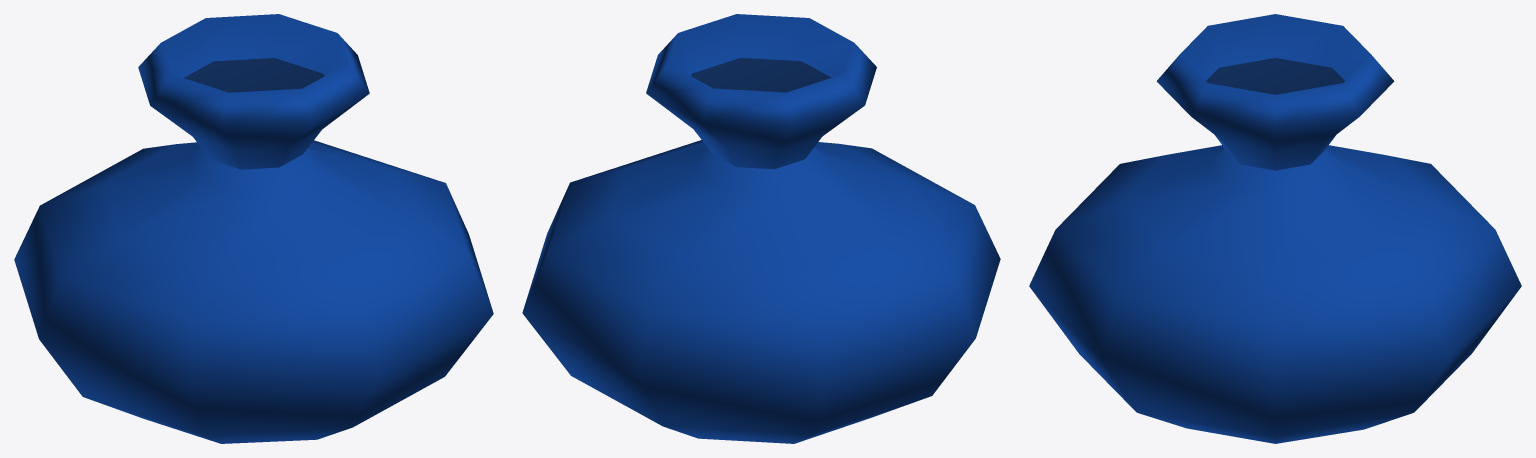
The model's file is prop_029.fbx.
3 renders of one model, left to right at view 1: azimuth 30°, elevation 25°; view 2: azimuth 150°, elevation 25°; view 3: azimuth 270°, elevation 25°, orthographic.
Parts seen in each view (by area): view 1: prop_029; view 2: prop_029; view 3: prop_029.
Part boxes in pixels (box(x1,y1,x2,y2)): prop_029: box(14, 14, 493, 443); prop_029: box(522, 14, 1000, 443); prop_029: box(1029, 14, 1521, 443).
Size of the model in its own units: 22.31 by 22.31 by 16.86.
